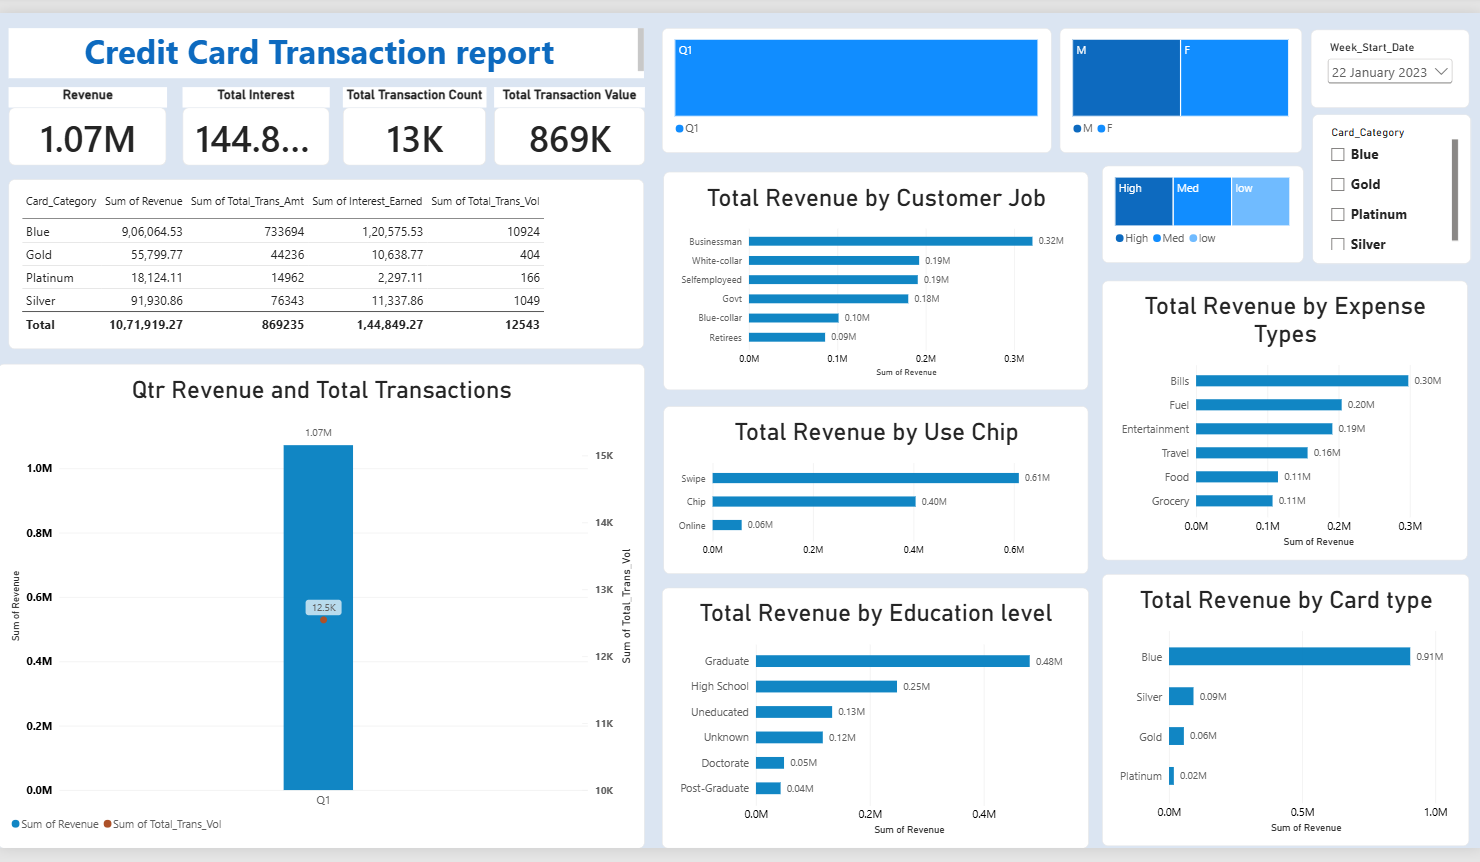

The page's visual inventory and layout, read from the dashboard file:
{"tool":"powerbi","page":{"name":"Credit Card Transaction","canvas":[1920,1080],"ordinal":1},"visuals":[{"type":"textbox","box":[14.5,19.3,822.1,65.1],"z":0},{"type":"lineStackedColumnComboChart","title":"Qtr Revenue and Total Transactions","fields":{"Category":["credit_card.Qtr"],"Y":["Sum(credit_card.Revenue)"],"Y2":["Sum(credit_card.Total_Trans_Vol)"]},"box":[0,453.2,836.5,626.8],"z":1000},{"type":"barChart","title":"Total Revenue by Expense Types","fields":{"Category":["credit_card.Exp Type"],"Y":["Sum(credit_card.Revenue)"]},"box":[1427.2,347.1,472.5,361.6],"z":2000},{"type":"barChart","title":"Total Revenue by Education level ","fields":{"Y":["Sum(credit_card.Revenue)"],"Category":["customer.Education_Level"]},"box":[858.2,742.5,552.1,337.5],"z":3000},{"type":"barChart","title":"Total Revenue by Customer Job","fields":{"Y":["Sum(credit_card.Revenue)"],"Category":["customer.Customer_Job"]},"box":[860.6,204.9,549.6,282.1],"z":4000},{"type":"barChart","title":"Total Revenue by Card type","fields":{"Y":["Sum(credit_card.Revenue)"],"Category":["credit_card.Card_Category"]},"box":[1427.2,725.6,474.9,352],"z":5000},{"type":"barChart","title":"Total Revenue by Use Chip","fields":{"Y":["Sum(credit_card.Revenue)"],"Category":["credit_card.Use Chip"]},"box":[860.6,508.7,549.6,217],"z":6000},{"type":"tableEx","fields":{"Values":["credit_card.Card_Category","Sum(credit_card.Revenue)","Sum(credit_card.Total_Trans_Amt)","Sum(credit_card.Interest_Earned)","Sum(credit_card.Total_Trans_Vol)"]},"box":[14.5,214.6,822.1,219.4],"z":7000},{"type":"cardVisual","title":"Revenue","fields":{"Data":["Sum(credit_card.Revenue)"]},"box":[14.5,96.4,204.9,101.3],"z":8000},{"type":"cardVisual","title":"Total Interest","fields":{"Data":["Sum(credit_card.Interest_Earned)"]},"box":[238.7,96.4,190.4,101.3],"z":9000},{"type":"cardVisual","title":"Total Transaction Count","fields":{"Data":["Sum(credit_card.Total_Trans_Vol)"]},"box":[446,96.4,185.6,101.3],"z":10000},{"type":"cardVisual","title":"Total Transaction Value","fields":{"Data":["Sum(credit_card.Total_Trans_Amt)"]},"box":[641.3,96.4,195.3,101.3],"z":11000},{"type":"slicer","fields":{"Values":["credit_card.Week_Start_Date"]},"box":[1697.2,21.7,204.9,101.3],"z":12000},{"type":"treemap","fields":{"Group":["credit_card.Qtr"],"Values":["Avg(credit_card.Client_Num)"]},"box":[858.2,19.3,503.8,161.5],"z":13000},{"type":"treemap","fields":{"Group":["customer.Gender"],"Values":["Avg(credit_card.Client_Num)"]},"box":[1374.1,19.3,313.4,161.5],"z":14000},{"type":"treemap","fields":{"Values":["Avg(credit_card.Client_Num)"],"Group":["customer.IncomeGroup"]},"box":[1427.2,197.7,260.4,125.4],"z":15000},{"type":"slicer","fields":{"Values":["credit_card.Card_Category"]},"box":[1699.6,130.2,204.9,192.9],"z":16000}]}

Visuals, with their boxes on the page's 1920x1080 design canvas (x1, y1, x2, y2). These are canvas units, not pixel positions in the 1480x862 screenshot, which may show the page scaled, cropped or inside an application window:
textbox: [left=14, top=19, right=837, bottom=84]
"Qtr Revenue and Total Transactions" lineStackedColumnComboChart: [left=0, top=453, right=836, bottom=1080]
"Total Revenue by Expense Types" barChart: [left=1427, top=347, right=1900, bottom=709]
"Total Revenue by Education level " barChart: [left=858, top=742, right=1410, bottom=1080]
"Total Revenue by Customer Job" barChart: [left=861, top=205, right=1410, bottom=487]
"Total Revenue by Card type" barChart: [left=1427, top=726, right=1902, bottom=1078]
"Total Revenue by Use Chip" barChart: [left=861, top=509, right=1410, bottom=726]
tableEx - credit_card.Card_Category x Sum(credit_card.Revenue): [left=14, top=215, right=837, bottom=434]
"Revenue" cardVisual: [left=14, top=96, right=219, bottom=198]
"Total Interest" cardVisual: [left=239, top=96, right=429, bottom=198]
"Total Transaction Count" cardVisual: [left=446, top=96, right=632, bottom=198]
"Total Transaction Value" cardVisual: [left=641, top=96, right=837, bottom=198]
slicer - credit_card.Week_Start_Date: [left=1697, top=22, right=1902, bottom=123]
treemap - credit_card.Qtr x Avg(credit_card.Client_Num): [left=858, top=19, right=1362, bottom=181]
treemap - customer.Gender x Avg(credit_card.Client_Num): [left=1374, top=19, right=1688, bottom=181]
treemap - Avg(credit_card.Client_Num) x customer.IncomeGroup: [left=1427, top=198, right=1688, bottom=323]
slicer - credit_card.Card_Category: [left=1700, top=130, right=1904, bottom=323]
